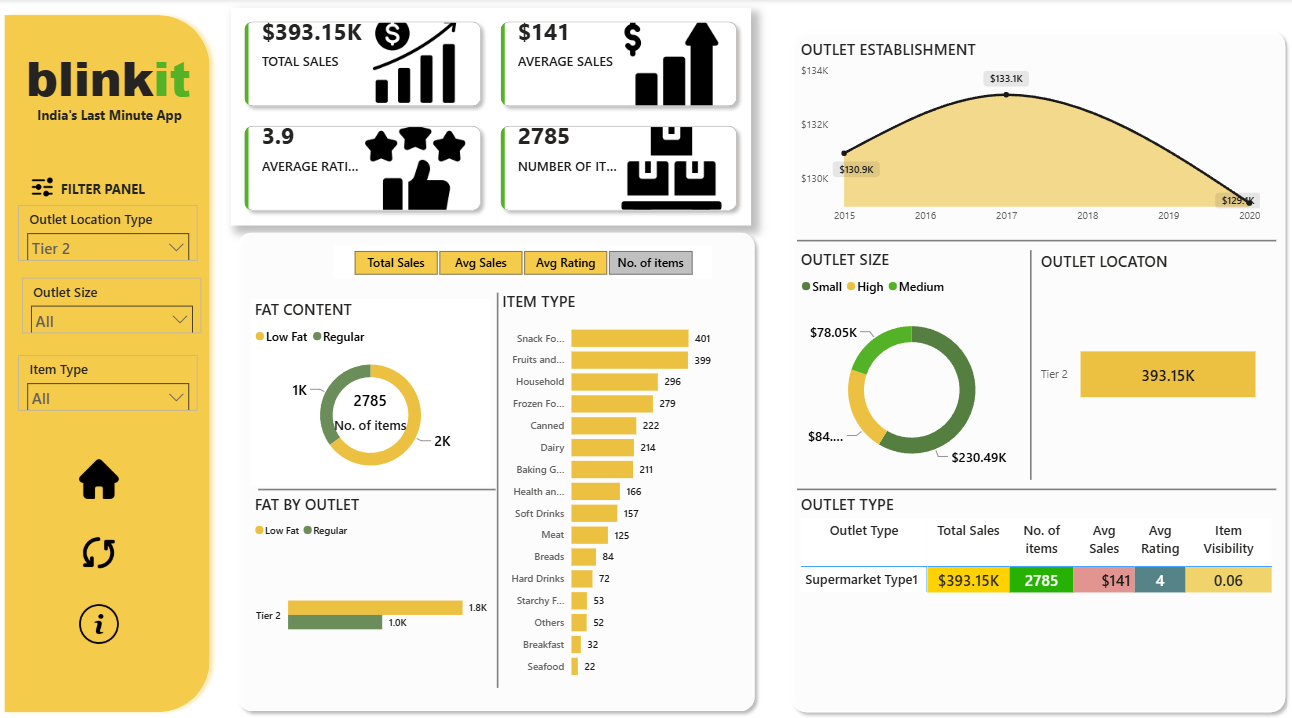

This screenshot's page, from the dashboard's own definition file:
{"tool":"powerbi","page":{"name":"Dashboard","canvas":[1600,900],"ordinal":0},"visuals":[{"type":"shape","box":[0,10,270,873.3],"z":0},{"type":"textbox","box":[30,48.6,232.9,95.7],"z":1000},{"type":"textbox","box":[44.3,125.7,205.7,37.1],"z":2000},{"type":"cardVisual","fields":{"Data":["BlinkIT Grocery Data.Total Sales","BlinkIT Grocery Data.Avg Sales","BlinkIT Grocery Data.Avg Rating","BlinkIT Grocery Data.Number of items"]},"box":[286.8,10.7,638,266.9],"z":3000},{"type":"shape","box":[286.7,278.3,651.7,605],"z":4000},{"type":"donutChart","title":"FAT CONTENT","fields":{"Y":["BlinkIT Grocery Data.No. of items"],"Category":["BlinkIT Grocery Data.Item Fat Content"]},"box":[311.7,367.3,294.3,228.6],"z":5000},{"type":"slicer","fields":{"Values":["Metrics.Metrics"]},"box":[413.2,301.6,464.5,40.7],"z":6000},{"type":"card","fields":{"Values":["BlinkIT Grocery Data.No. of items"]},"box":[406.7,456.7,103.3,95],"z":7000},{"type":"clusteredBarChart","title":"FAT BY OUTLET","fields":{"Y":["BlinkIT Grocery Data.No. of items"],"Category":["BlinkIT Grocery Data.Outlet Location Type"],"Series":["BlinkIT Grocery Data.Item Fat Content"]},"box":[311.7,606.7,295,238.3],"z":8000},{"type":"shape","box":[320,580,291.4,44.3],"z":9000},{"type":"shape","box":[595,360,38.3,485],"z":10000},{"type":"barChart","title":"ITEM TYPE","fields":{"Y":["BlinkIT Grocery Data.No. of items"],"Category":["BlinkIT Grocery Data.Item Type"]},"box":[615,356.7,310,488.3],"z":11000},{"type":"shape","box":[966.7,30,623.3,853.3],"z":12000},{"type":"lineChart","title":"OUTLET ESTABLISHMENT","fields":{"Category":["BlinkIT Grocery Data.Outlet Establishment Year"],"Y":["BlinkIT Grocery Data.Total Sales"]},"box":[981.7,48.3,573.3,235],"z":13000},{"type":"shape","box":[981.7,279,588.1,34.7],"z":14000},{"type":"donutChart","title":"OUTLET SIZE","fields":{"Y":["BlinkIT Grocery Data.Total Sales"],"Category":["BlinkIT Grocery Data.Outlet Size"]},"box":[981.7,306.1,282,289.5],"z":15000},{"type":"shape","box":[1248.3,308.3,40,281.7],"z":16000},{"type":"funnel","title":"OUTLET LOCATON","fields":{"Y":["Sum(BlinkIT Grocery Data.Sales)"],"Category":["BlinkIT Grocery Data.Outlet Location Type"]},"box":[1276.7,308.3,278.3,280],"z":17000},{"type":"shape","box":[981.7,585.1,588.1,34.7],"z":18000},{"type":"pivotTable","title":"OUTLET TYPE","fields":{"Rows":["BlinkIT Grocery Data.Outlet Type"],"Values":["BlinkIT Grocery Data.Total Sales","BlinkIT Grocery Data.No. of items","BlinkIT Grocery Data.Avg Sales","BlinkIT Grocery Data.Avg Rating","Avg(BlinkIT Grocery Data.Item Visibility)"]},"box":[981.7,606.7,588.3,238.3],"z":19000},{"type":"slicer","fields":{"Values":["BlinkIT Grocery Data.Outlet Location Type"]},"box":[26.7,253.3,220,68.3],"z":20000},{"type":"slicer","fields":{"Values":["BlinkIT Grocery Data.Outlet Size"]},"box":[30,341.7,220,68.3],"z":21000},{"type":"slicer","fields":{"Values":["BlinkIT Grocery Data.Item Type"]},"box":[26.7,436.7,220,68.3],"z":22000},{"type":"textbox","box":[74.2,215.7,123.7,37.7],"z":23000},{"type":"image","box":[95,559.5,60.3,58.8],"z":24000},{"type":"image","box":[36.5,206.6,37.7,46.7],"z":25000},{"type":"image","box":[95,650,60.3,58.8],"z":26000},{"type":"image","box":[95,737.4,60.3,58.8],"z":28000}]}

Visuals, with their boxes in screenshot pixels (x1, y1, x2, y2), scaled from the page's 1600x900 canvas onto the 1292x718 screenshot:
shape: 0,8,218,705
textbox: 24,39,212,115
textbox: 36,100,202,130
cardVisual - BlinkIT Grocery Data.Total Sales x BlinkIT Grocery Data.Avg Sales: 232,9,747,221
shape: 232,222,758,705
"FAT CONTENT" donutChart: 252,293,489,475
slicer - Metrics.Metrics: 334,241,709,273
card - BlinkIT Grocery Data.No. of items: 328,364,412,440
"FAT BY OUTLET" clusteredBarChart: 252,484,490,674
shape: 258,463,494,498
shape: 480,287,511,674
"ITEM TYPE" barChart: 497,285,747,674
shape: 781,24,1284,705
"OUTLET ESTABLISHMENT" lineChart: 793,39,1256,226
shape: 793,223,1268,250
"OUTLET SIZE" donutChart: 793,244,1020,475
shape: 1008,246,1040,471
"OUTLET LOCATON" funnel: 1031,246,1256,469
shape: 793,467,1268,494
"OUTLET TYPE" pivotTable: 793,484,1268,674
slicer - BlinkIT Grocery Data.Outlet Location Type: 22,202,199,257
slicer - BlinkIT Grocery Data.Outlet Size: 24,273,202,327
slicer - BlinkIT Grocery Data.Item Type: 22,348,199,403
textbox: 60,172,160,202
image: 77,446,125,493
image: 29,165,60,202
image: 77,519,125,565
image: 77,588,125,635
